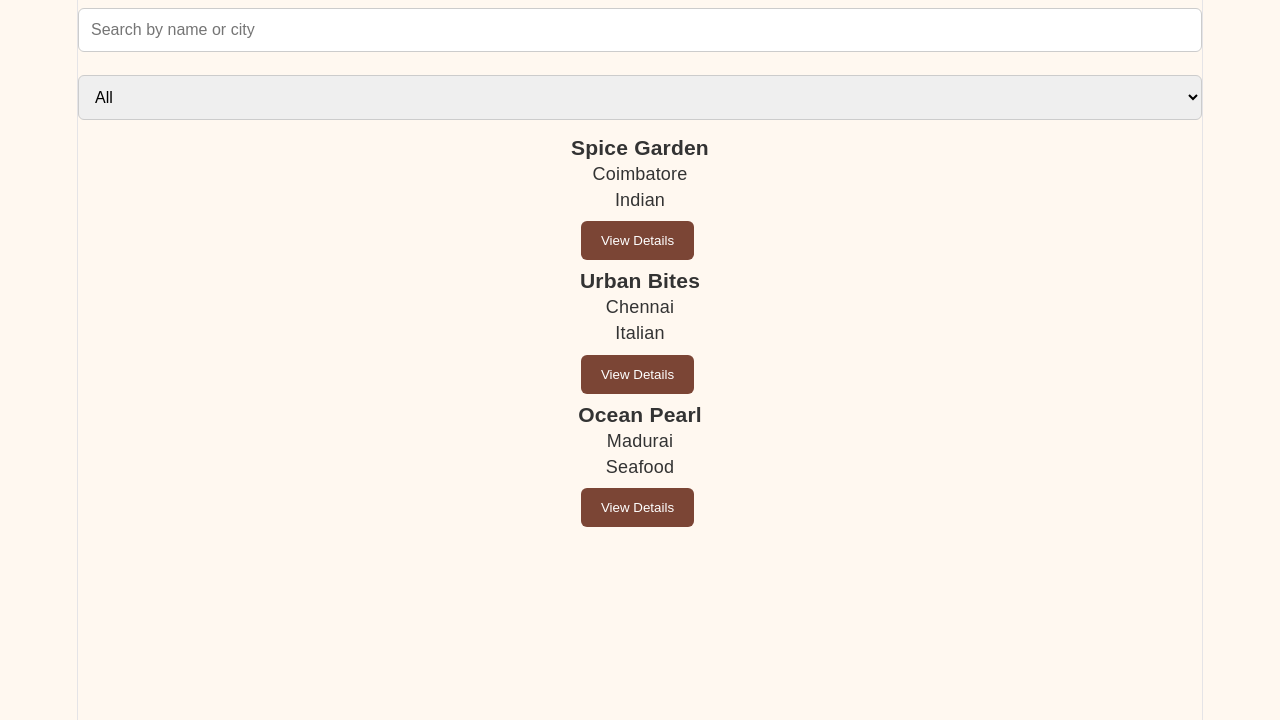
Test: Experiment 1: Restaurant Reservation Testing › b) Filter restaurants by cuisine
Select "Italian" in the dropdown named "Cuisine" at (640, 98), box [78,75,1202,120]
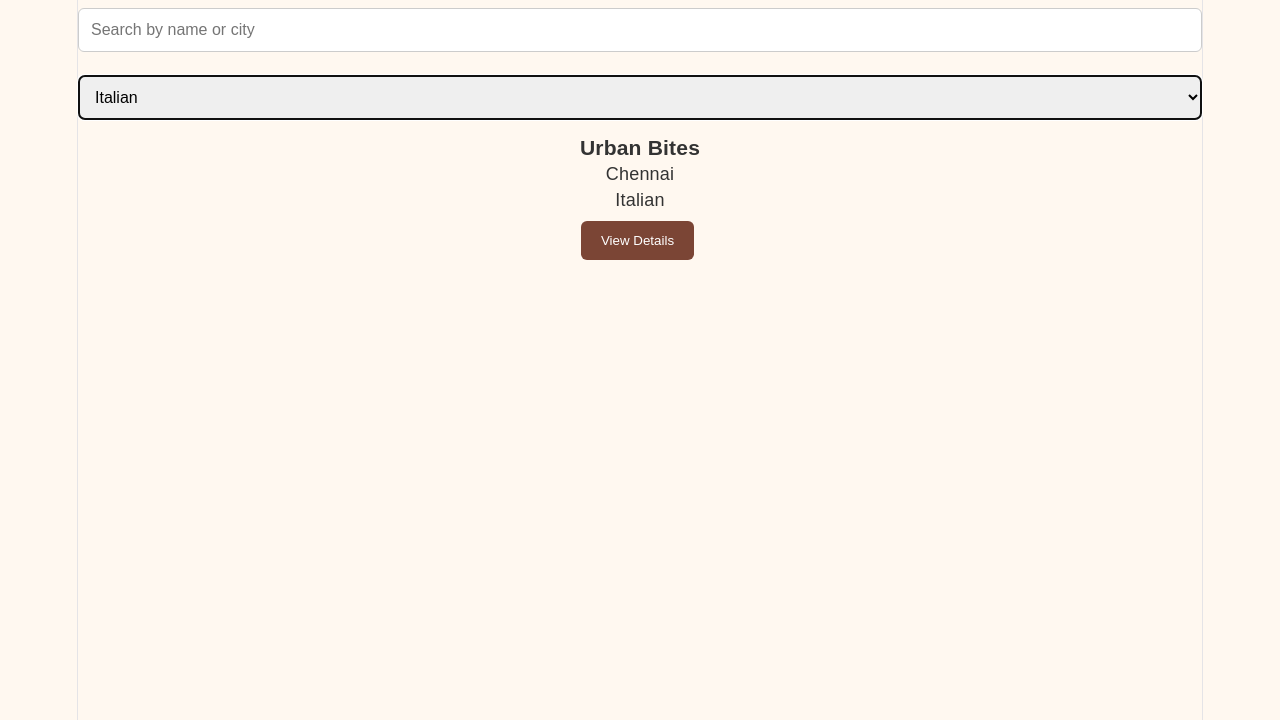
Expected: the heading "Urban Bites" is shown, [580,136,700,159]
Expected: the heading "Spice Garden" is gone
